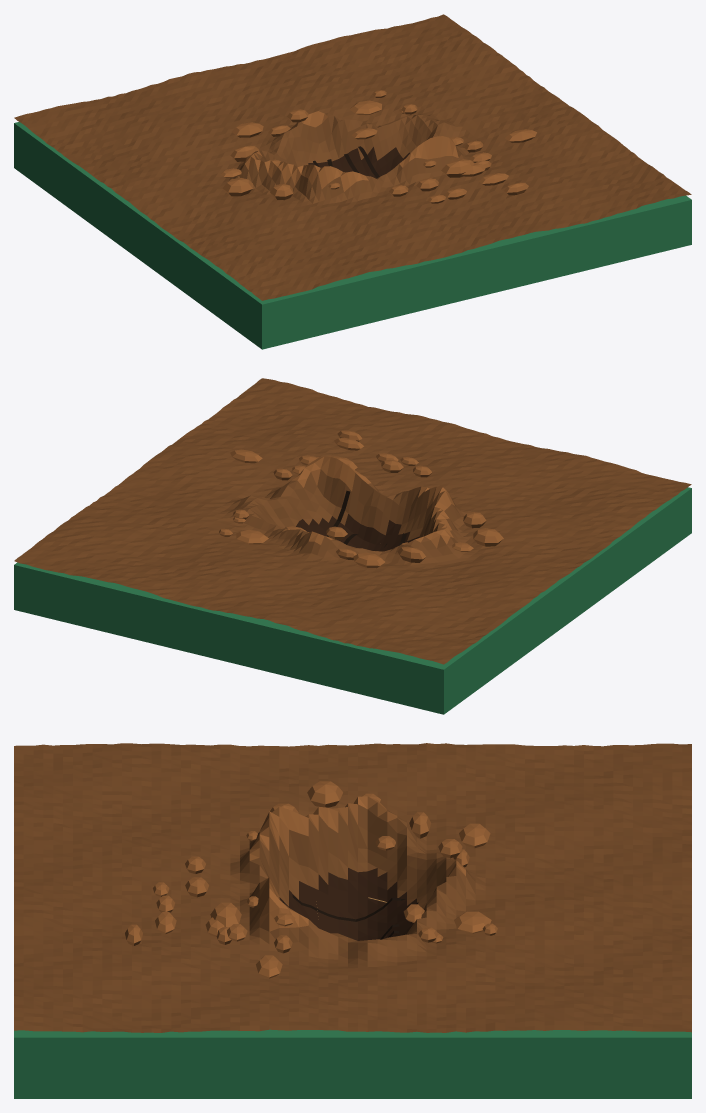
The model's file is Hole_Tile.obj.
3 views of the same model, one above another, from view 1: azimuth 30°, elevation 25°; view 2: azimuth 150°, elevation 25°; view 3: azimuth 270°, elevation 25° (orthographic). The views are drawn at different scales.
Parts seen in each view (by area): view 1: Dog_Dug_Dirt_Hole_Baked, PF_Floor_Green_Cube; view 2: Dog_Dug_Dirt_Hole_Baked, PF_Floor_Green_Cube; view 3: Dog_Dug_Dirt_Hole_Baked, PF_Floor_Green_Cube.
Boxes of the visible parts, x1,y1,x2,y2 form: Dog_Dug_Dirt_Hole_Baked: (14, 14, 691, 300); PF_Floor_Green_Cube: (14, 122, 691, 349); Dog_Dug_Dirt_Hole_Baked: (14, 378, 691, 664); PF_Floor_Green_Cube: (14, 487, 691, 714); Dog_Dug_Dirt_Hole_Baked: (14, 743, 691, 1032); PF_Floor_Green_Cube: (14, 1029, 691, 1098).
Bounding box in the file's own units: 1 × 0.1852 × 1.
